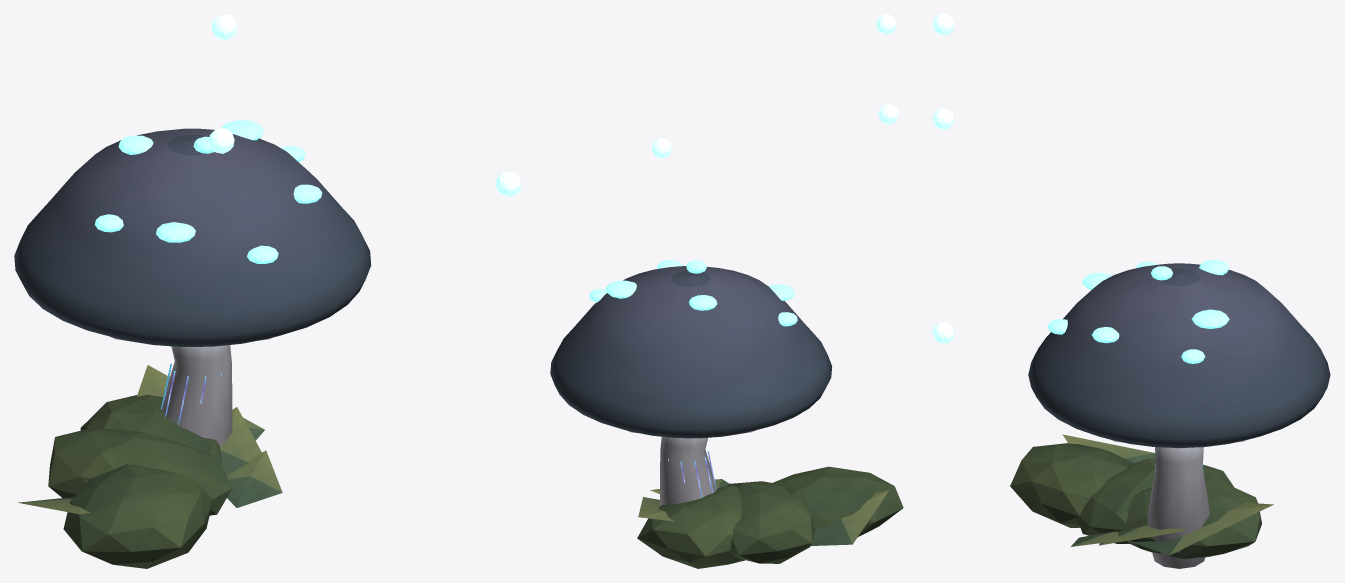
Rendered from forest_mushroom_small.glb.
3 renders of one model, left to right at view 1: azimuth 30°, elevation 25°; view 2: azimuth 150°, elevation 25°; view 3: azimuth 270°, elevation 25°, orthographic. The views are drawn at different scales.
Visible parts, largest first — view 1: Broad faceted mushroom cap.002, Woodland shared moss cushion.025, Woodland shared moss cushion.027, Curving luminous mushroom stem.002, Woodland shared moss cushion.028, Woodland shared curved ivy leaf.086, Woodland shared curved ivy leaf.085, Woodland shared curved ivy leaf.088, Bioluminescent cap spot.016; view 2: Broad faceted mushroom cap.002, Woodland shared moss cushion.028, Woodland shared moss cushion.027, Woodland shared moss cushion.025, Curving luminous mushroom stem.002, Woodland shared curved ivy leaf.087, Woodland shared curved ivy leaf.088, Bioluminescent cap spot.020; view 3: Broad faceted mushroom cap.002, Woodland shared moss cushion.025, Curving luminous mushroom stem.002, Woodland shared moss cushion.028, Woodland shared moss cushion.027, Woodland shared curved ivy leaf.088, Woodland shared curved ivy leaf.087, Woodland shared curved ivy leaf.085, Bioluminescent cap spot.020.
Boxes of the visible parts, x1,y1,x2,y2 form: Broad faceted mushroom cap.002: [14, 128, 371, 346]; Woodland shared moss cushion.025: [63, 464, 213, 568]; Woodland shared moss cushion.027: [48, 427, 232, 515]; Curving luminous mushroom stem.002: [160, 345, 232, 446]; Woodland shared moss cushion.028: [80, 395, 222, 464]; Woodland shared curved ivy leaf.086: [227, 450, 282, 507]; Woodland shared curved ivy leaf.085: [220, 407, 261, 474]; Woodland shared curved ivy leaf.088: [137, 365, 264, 440]; Bioluminescent cap spot.016: [156, 222, 195, 242]; Broad faceted mushroom cap.002: [550, 266, 832, 438]; Woodland shared moss cushion.028: [637, 485, 745, 568]; Woodland shared moss cushion.027: [727, 481, 815, 563]; Woodland shared moss cushion.025: [773, 466, 903, 536]; Curving luminous mushroom stem.002: [660, 436, 717, 505]; Woodland shared curved ivy leaf.087: [810, 490, 888, 545]; Woodland shared curved ivy leaf.088: [638, 497, 674, 521]; Bioluminescent cap spot.020: [606, 280, 636, 298]; Broad faceted mushroom cap.002: [1028, 263, 1330, 447]; Woodland shared moss cushion.025: [1010, 443, 1133, 527]; Curving luminous mushroom stem.002: [1147, 447, 1209, 568]; Woodland shared moss cushion.028: [1119, 477, 1261, 558]; Woodland shared moss cushion.027: [1077, 458, 1233, 543]; Woodland shared curved ivy leaf.088: [1127, 502, 1273, 555]; Woodland shared curved ivy leaf.087: [1062, 434, 1155, 463]; Woodland shared curved ivy leaf.085: [1099, 525, 1185, 545]; Bioluminescent cap spot.020: [1191, 309, 1229, 328].
Size of the model in its own units: 0.5936 by 0.898 by 0.6416.
Materials: 8 (6 with a texture image).
